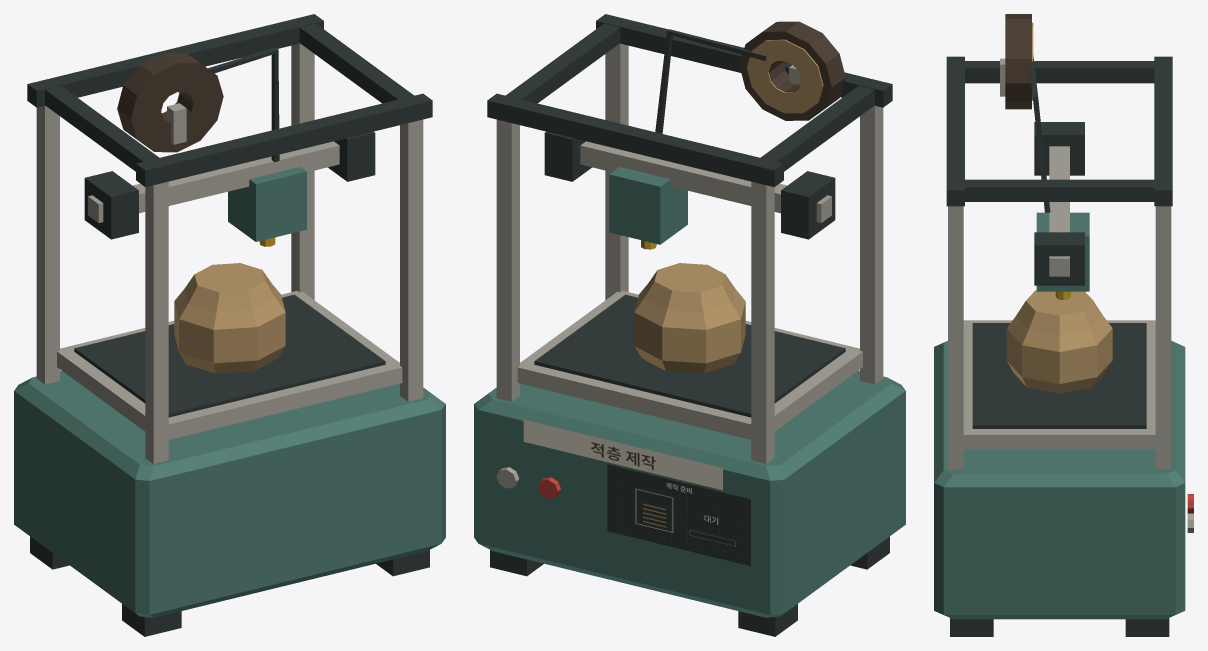
Rendered from T02_Additive_Printer.fbx.
The picture shows the model from 3 angles, left to right: view 1: azimuth 30°, elevation 25°; view 2: azimuth 150°, elevation 25°; view 3: azimuth 270°, elevation 25°; orthographic projection. The views are drawn at different scales.
Parts seen in each view (by area): view 1: Structure, Print_Bed, Gantry, Printed_Sample, Filament_Spool; view 2: Structure, Print_Bed, Gantry, Printed_Sample, Control_Screen, Filament_Spool, Title; view 3: Structure, Print_Bed, Printed_Sample, Gantry, Filament_Spool.
Boxes of the visible parts, bbox=[...] form: Structure: bbox=[14, 14, 445, 636]; Print_Bed: bbox=[57, 290, 402, 439]; Gantry: bbox=[84, 131, 375, 246]; Printed_Sample: bbox=[174, 263, 285, 373]; Filament_Spool: bbox=[117, 53, 223, 152]; Structure: bbox=[474, 14, 905, 636]; Print_Bed: bbox=[517, 290, 862, 439]; Gantry: bbox=[544, 131, 835, 249]; Printed_Sample: bbox=[634, 263, 745, 373]; Control_Screen: bbox=[607, 464, 750, 566]; Filament_Spool: bbox=[739, 21, 845, 120]; Title: bbox=[523, 419, 722, 490]; Structure: bbox=[934, 55, 1193, 636]; Print_Bed: bbox=[963, 320, 1155, 449]; Printed_Sample: bbox=[1006, 290, 1112, 393]; Gantry: bbox=[1034, 122, 1089, 300]; Filament_Spool: bbox=[1005, 14, 1033, 109].
Size of the model in its own units: 1.45 by 2.4 by 1.1.
8 materials, 1 textured.
